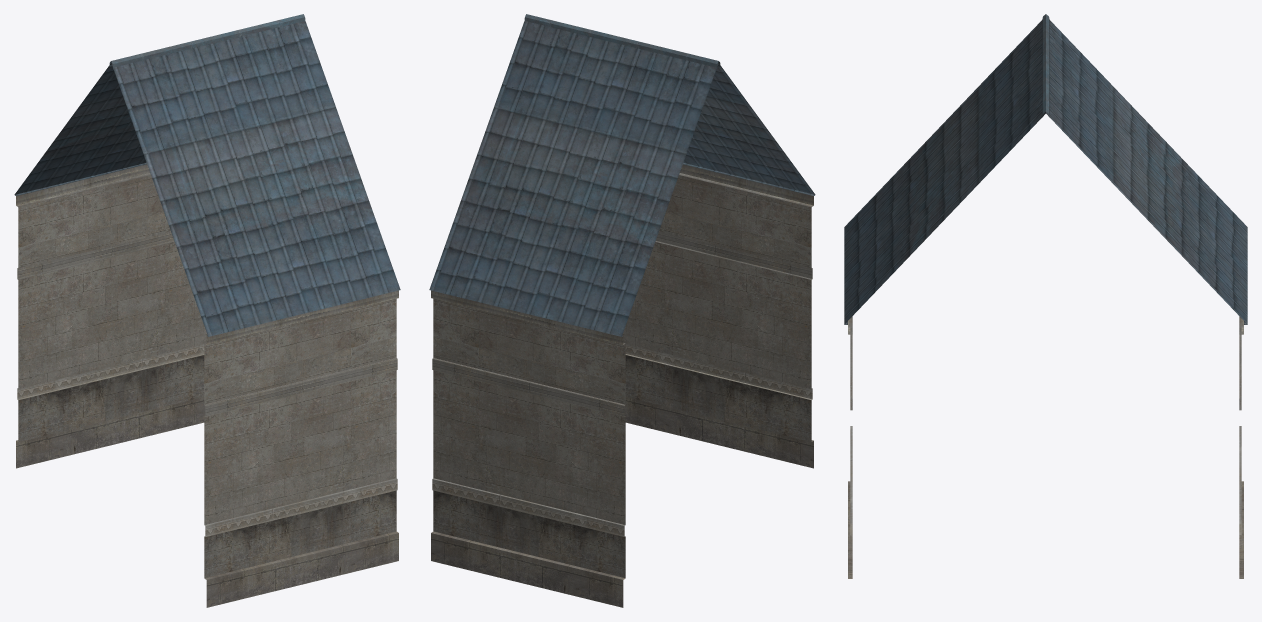
File: bg_lut_lucastle_house03_sm_sup.FBX
3 renders of one model, left to right at view 1: azimuth 30°, elevation 25°; view 2: azimuth 150°, elevation 25°; view 3: azimuth 270°, elevation 25°, orthographic. The views are drawn at different scales.
Parts seen in each view (by area): view 1: bg_lut_lucastle_house03_sm_sup; view 2: bg_lut_lucastle_house03_sm_sup; view 3: bg_lut_lucastle_house03_sm_sup.
Part boxes in pixels (x1,y1,x2,y2): bg_lut_lucastle_house03_sm_sup: (14,14,400,607); bg_lut_lucastle_house03_sm_sup: (429,14,815,607); bg_lut_lucastle_house03_sm_sup: (844,14,1247,578).
Size of the model in its own units: 288 by 683 by 503.
